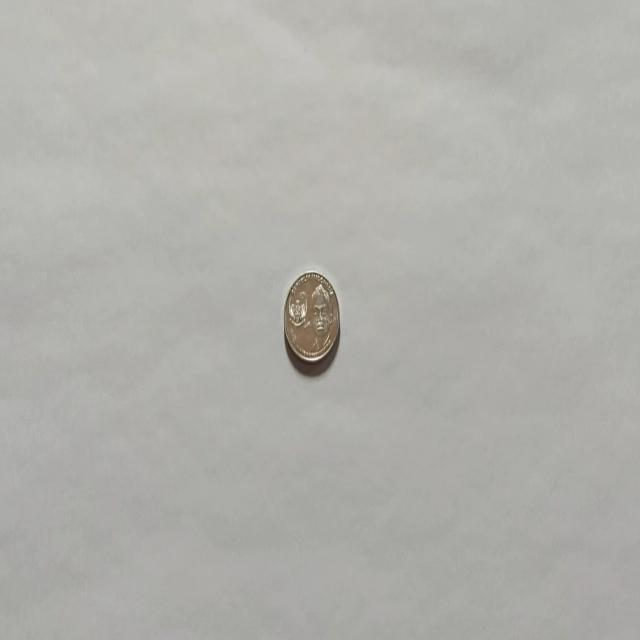dua ratus rupiah: (282, 270, 340, 366)
